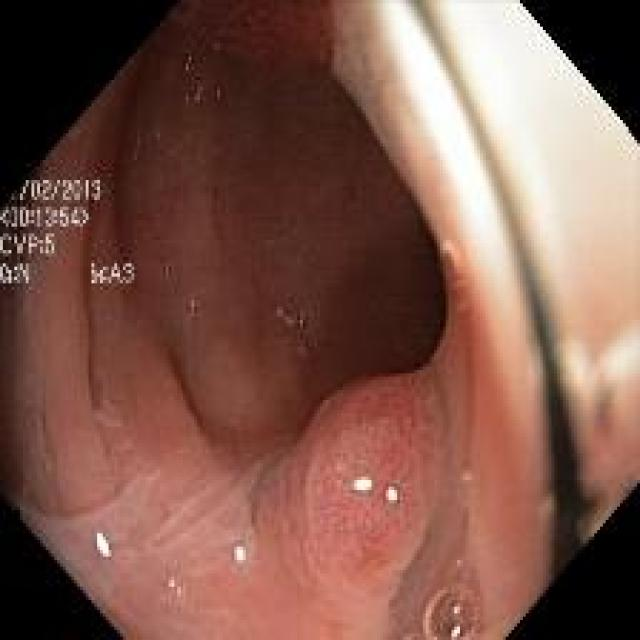Polyps: (276, 366, 449, 637)
